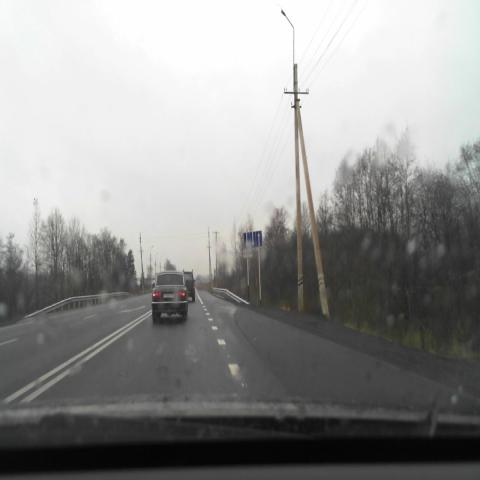5_15_7: (244, 230, 262, 248)
